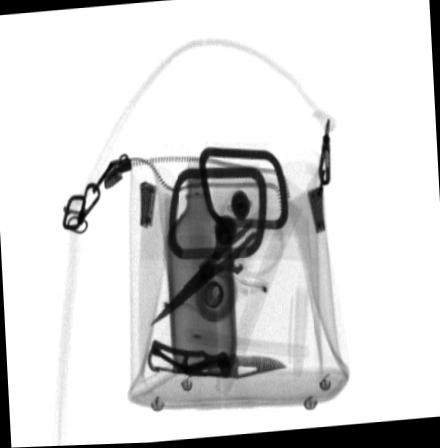Knife: (148, 342, 289, 383)
Scissors: (149, 169, 285, 326)
